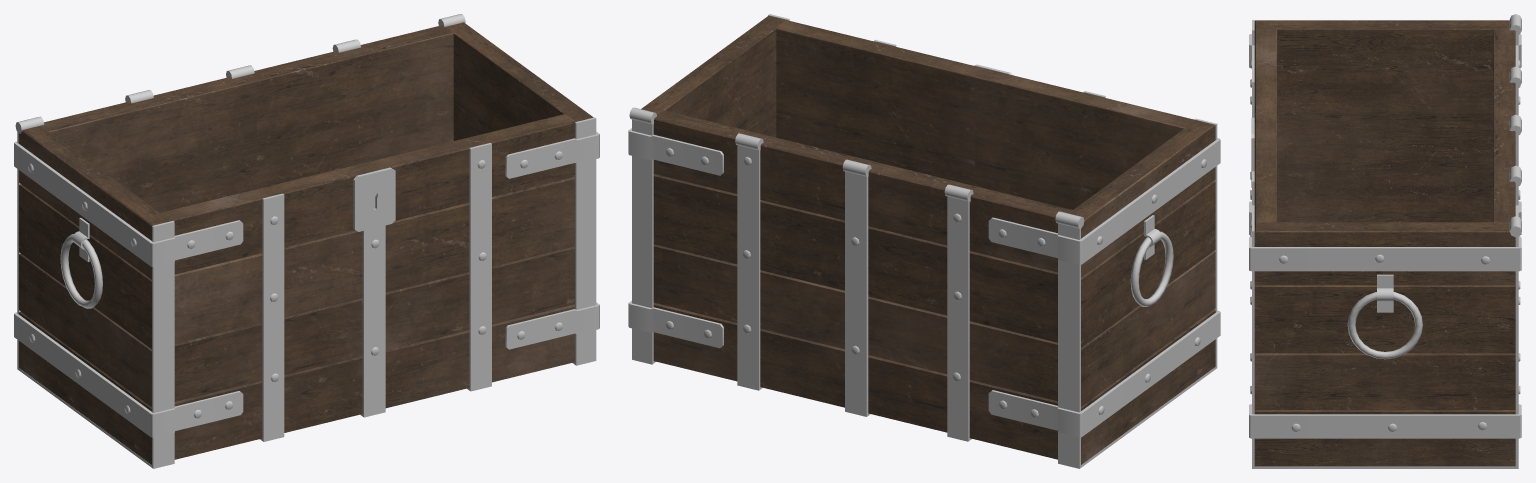
File: SM_Chest_01.fbx
The picture shows the model from 3 angles, left to right: view 1: azimuth 30°, elevation 25°; view 2: azimuth 150°, elevation 25°; view 3: azimuth 270°, elevation 25°; orthographic projection. The views are drawn at different scales.
Visible parts, largest first — view 1: SM_Chest_01_LOD0; view 2: SM_Chest_01_LOD0; view 3: SM_Chest_01_LOD0.
Part boxes in pixels (x1,y1,x2,y2): SM_Chest_01_LOD0: (14, 14, 599, 468); SM_Chest_01_LOD0: (628, 14, 1220, 468); SM_Chest_01_LOD0: (1249, 14, 1521, 468).
Size of what is drawn, in the model's own units: 142 by 73.05 by 74.3.
